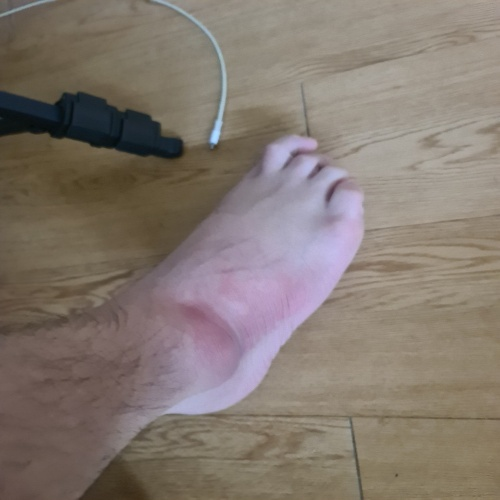Top_Foot: (148, 135, 365, 415)
